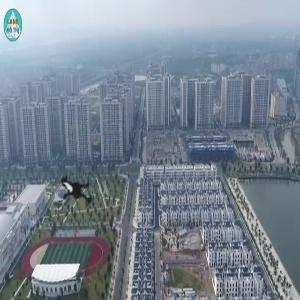drone: (37, 147, 122, 232)
